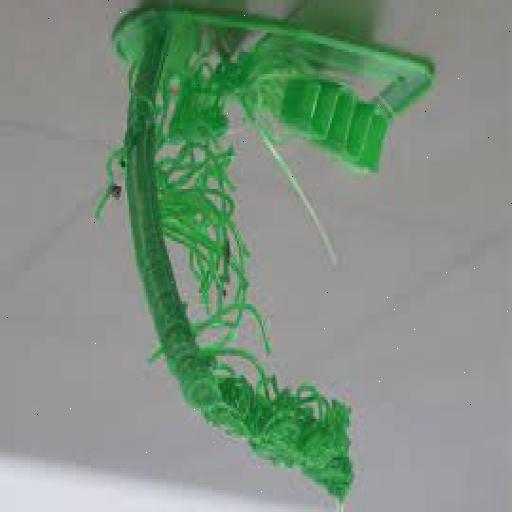spaghetti: (158, 37, 276, 360), (159, 363, 362, 501)
